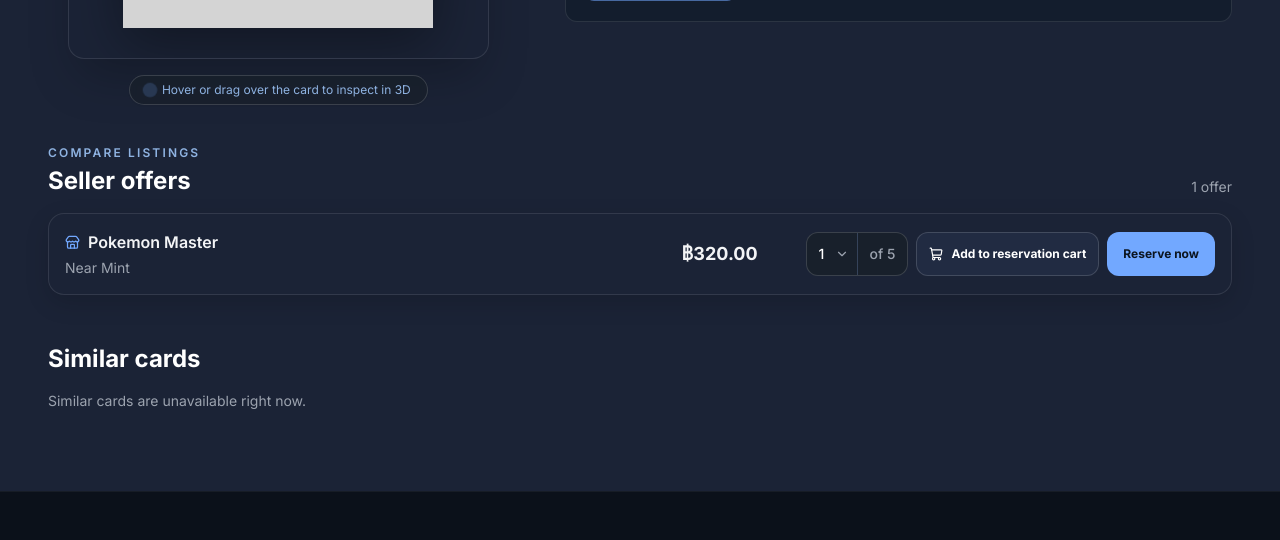
Test: Core Journey 3: Shopping Cart Flow & Stock Verification (US-03) › prompts unauthenticated user to login when adding to cart
(page scrolled)
Click the button "Add to reservation cart". click: (1009, 254)
box: [917,232,1100,276]
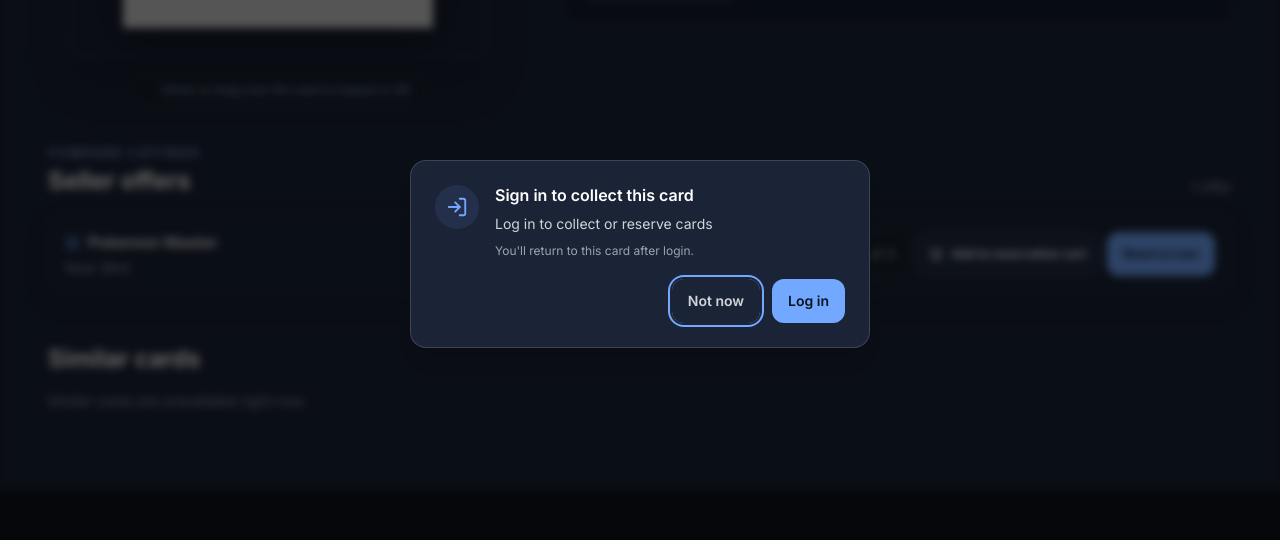
Result: the text "Log in to collect or reserve cards" is shown at [495,213,713,235]
